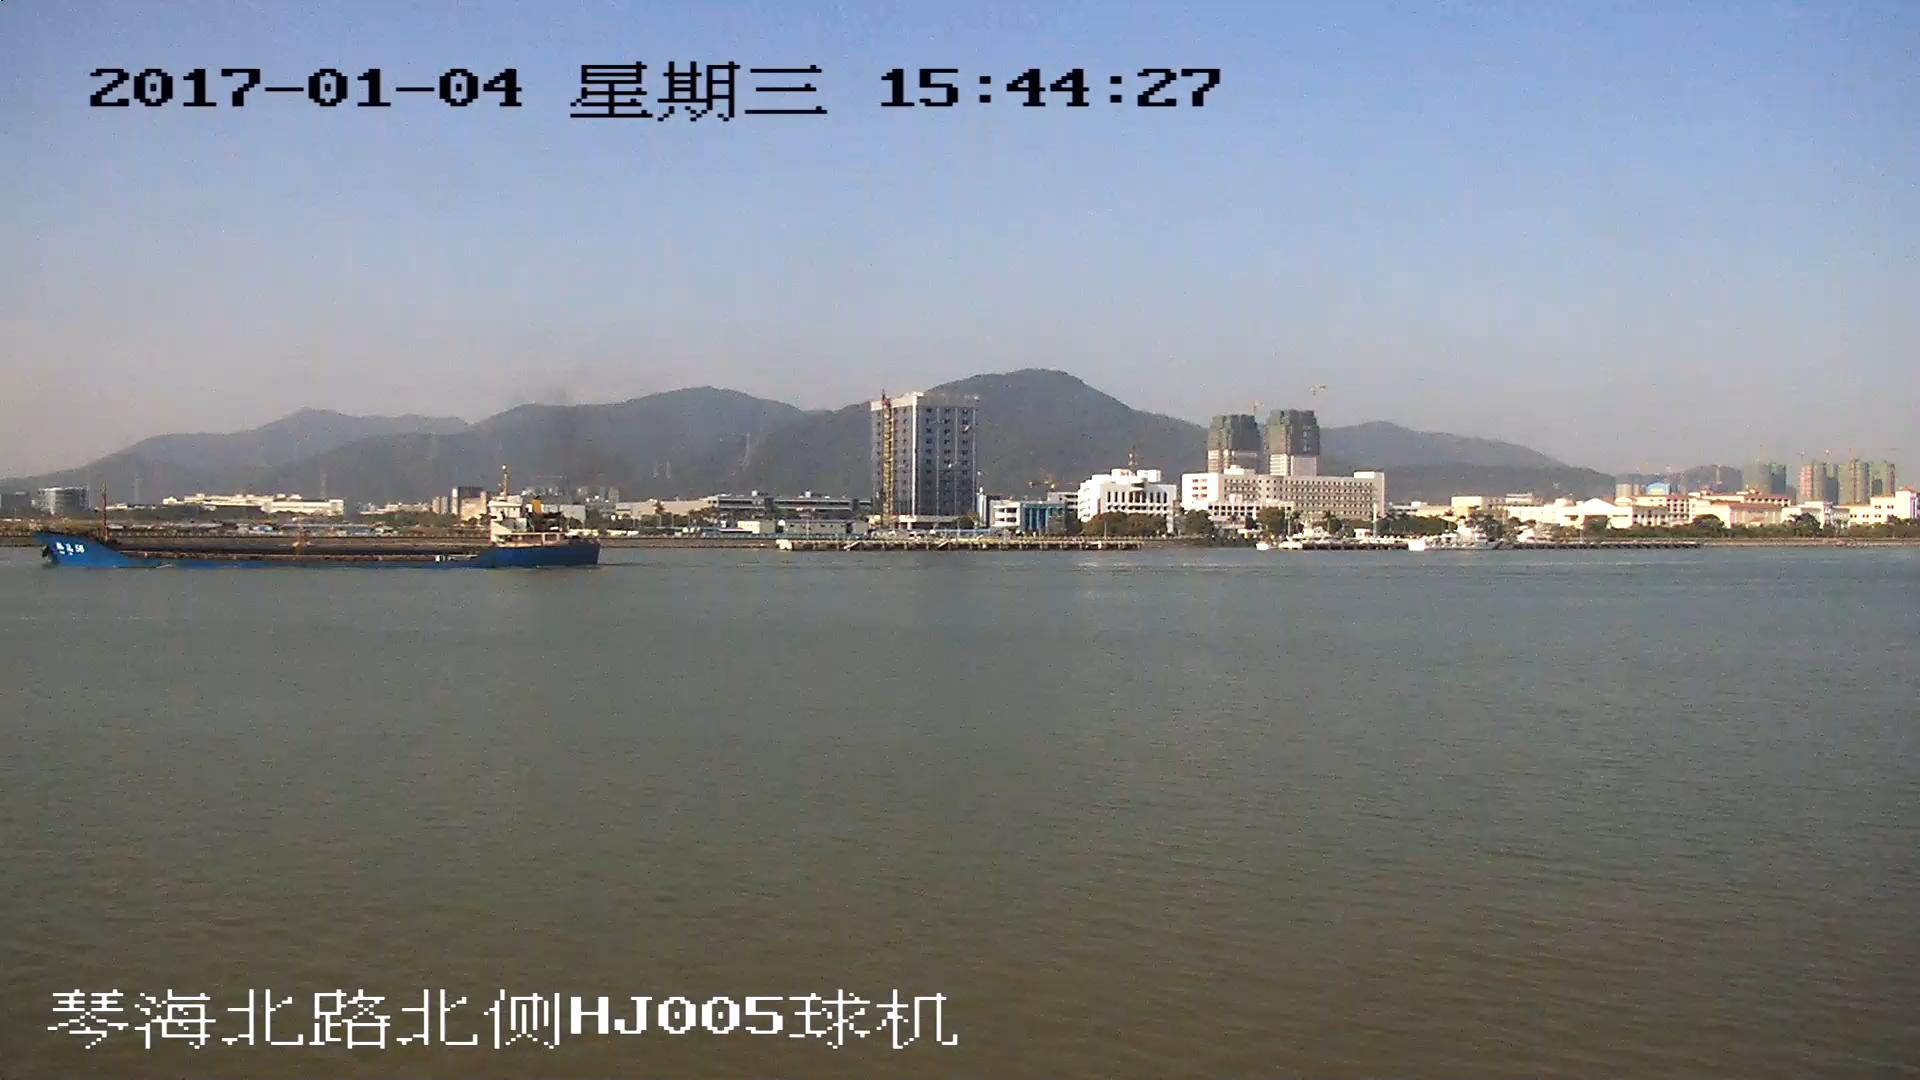general cargo ship: (42, 487, 601, 570)
